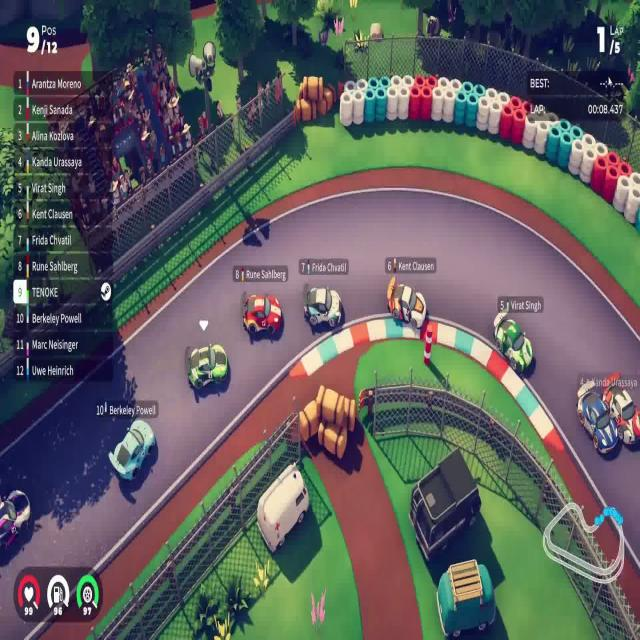car: (594, 367, 640, 452), (576, 378, 618, 456), (108, 418, 156, 482), (492, 309, 533, 375), (386, 275, 427, 329), (187, 342, 228, 391), (242, 292, 282, 337), (303, 285, 342, 330)
